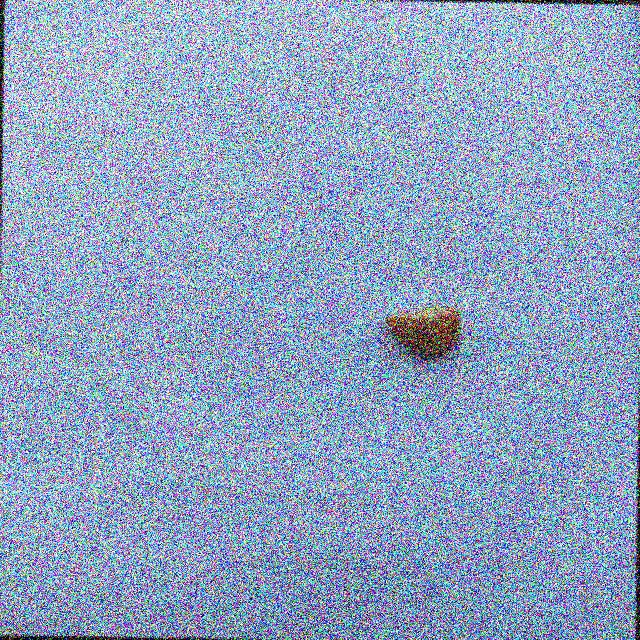grade4: (376, 300, 468, 364)
